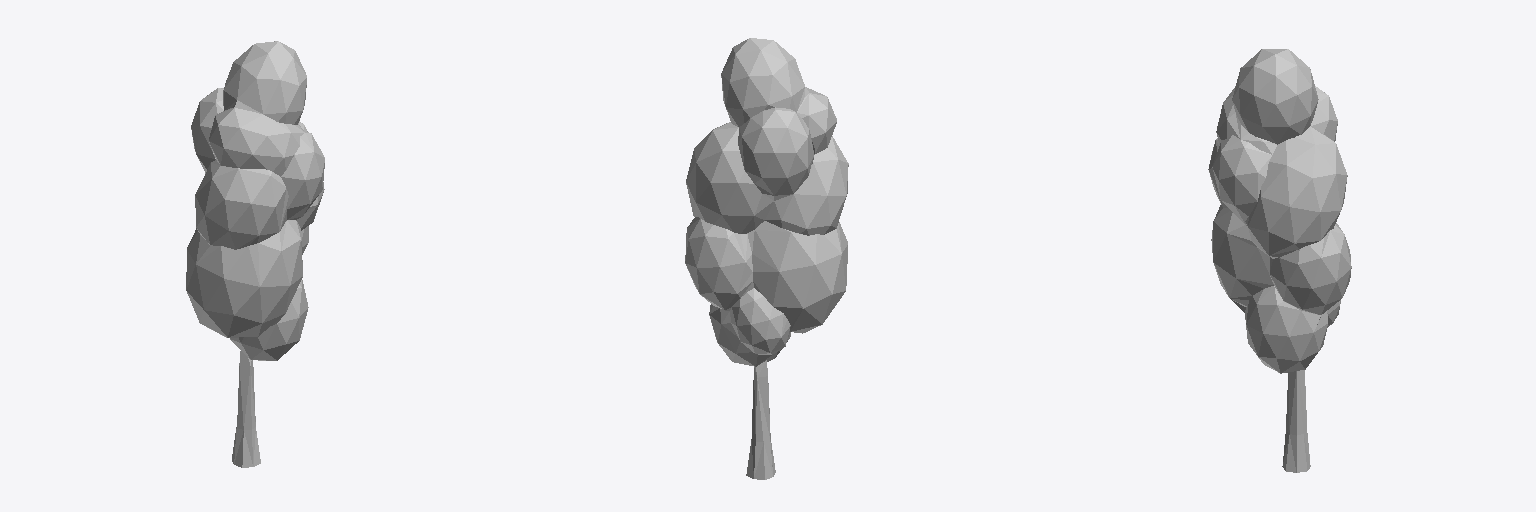
File: tree7.obj
3 views of the same model, side by side, from view 1: azimuth 30°, elevation 25°; view 2: azimuth 150°, elevation 25°; view 3: azimuth 270°, elevation 25° (orthographic).
Parts seen in each view (by area): view 1: _7_tree; view 2: _7_tree; view 3: _7_tree.
Part boxes in pixels (x1,y1,x2,y2): _7_tree: (186, 41, 324, 467); _7_tree: (685, 38, 848, 479); _7_tree: (1208, 49, 1351, 472).
Size of the model in its own units: 0.9204 by 2.78 by 0.8524.